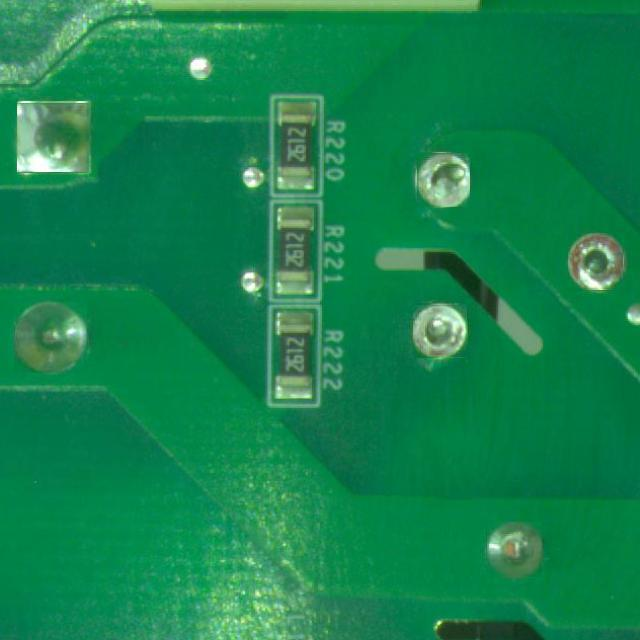oppostie_direction: (16, 302, 87, 373), (18, 102, 88, 172), (416, 152, 470, 207), (486, 523, 542, 576), (569, 234, 622, 289), (413, 304, 467, 357)
